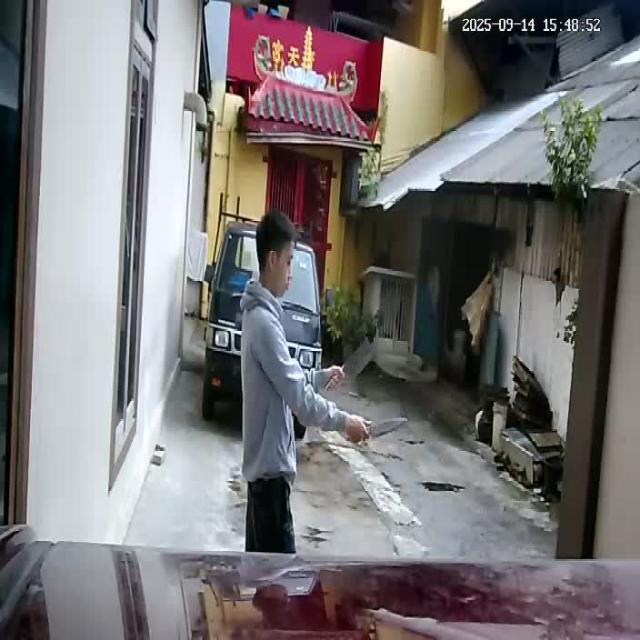senjata_tajam: (342, 333, 377, 382), (368, 414, 409, 442)
